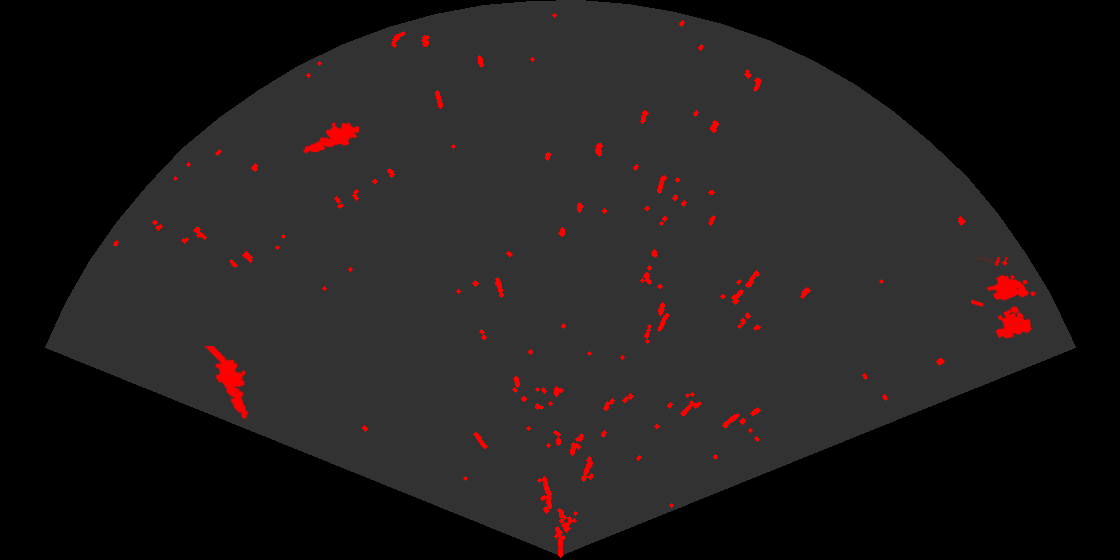cage: (971, 257, 1037, 340)
frogman: (203, 346, 250, 421), (302, 121, 359, 155)
